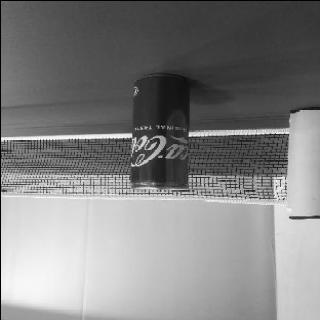alumunium_can: (127, 72, 190, 190)
